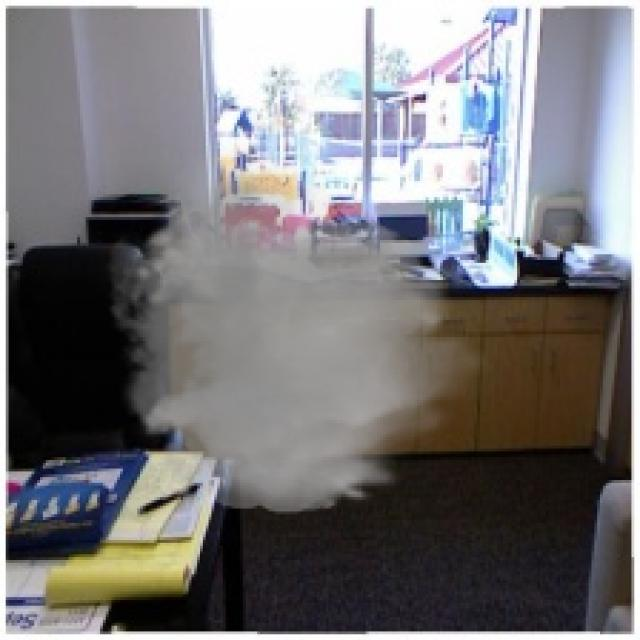smoke: (92, 143, 497, 523)
